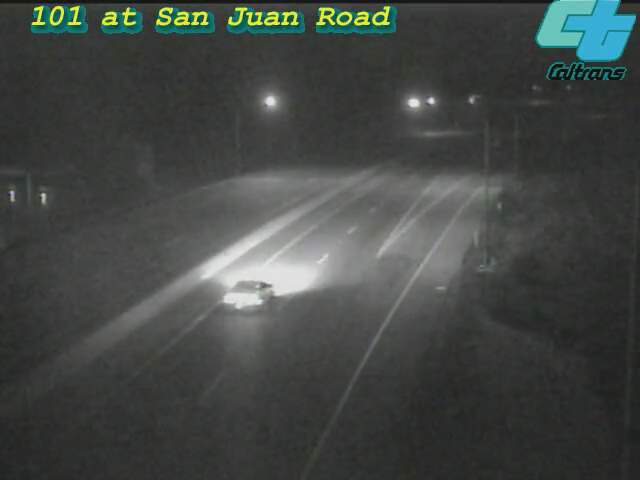vehicle: (209, 251, 289, 331)
